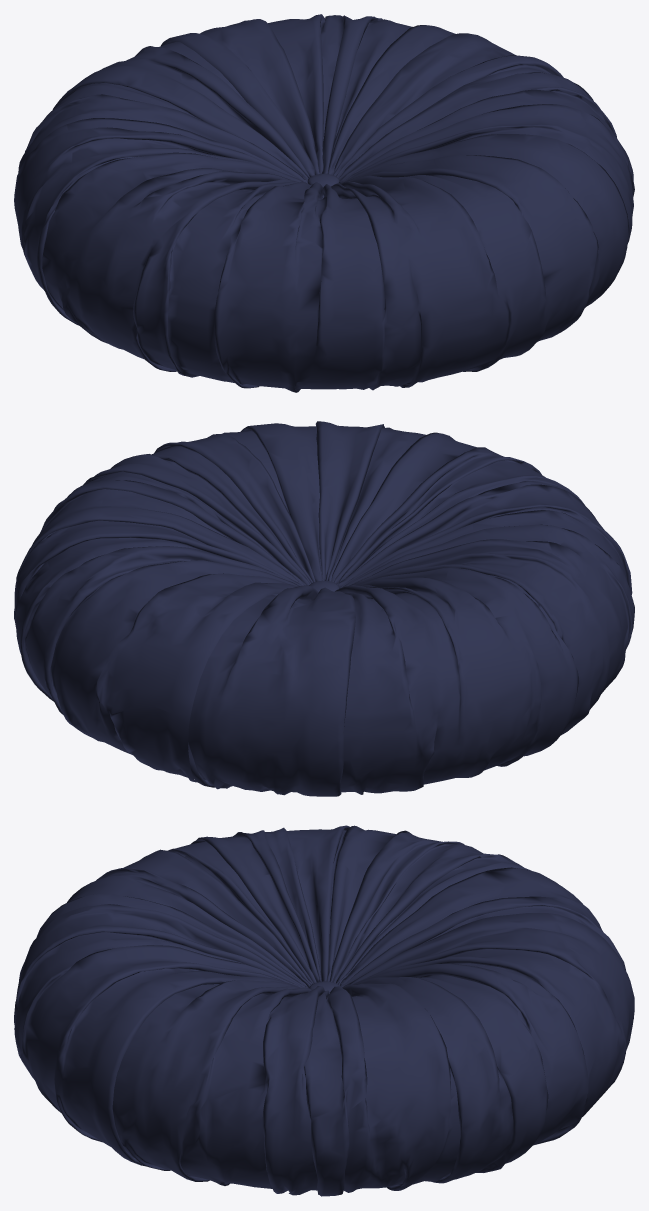
Rendered from SpecularSilkPouf.glb.
3 renders of one model, top to bottom at view 1: azimuth 30°, elevation 25°; view 2: azimuth 150°, elevation 25°; view 3: azimuth 270°, elevation 25°, orthographic.
Visible parts, largest first — view 1: SpecularSilkPouf; view 2: SpecularSilkPouf; view 3: SpecularSilkPouf.
Part boxes in pixels (x1=…): SpecularSilkPouf: x1=14, y1=14, x2=634, y2=392; SpecularSilkPouf: x1=14, y1=421, x2=634, y2=796; SpecularSilkPouf: x1=14, y1=825, x2=634, y2=1196.
Bounding box in the file's own units: 0.6099 × 0.1978 × 0.6096.
